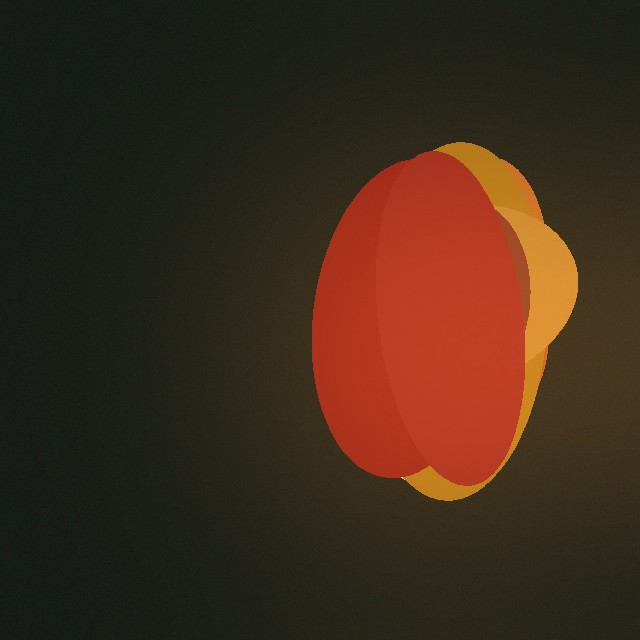fire: (316, 210, 576, 490)
